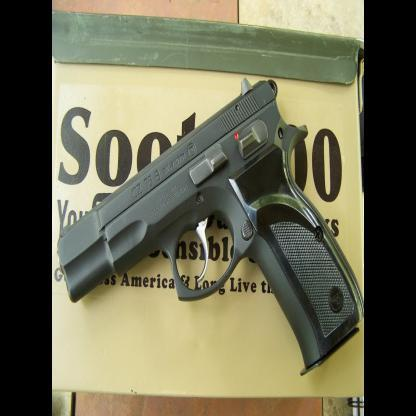Pistol: (56, 74, 363, 376)
